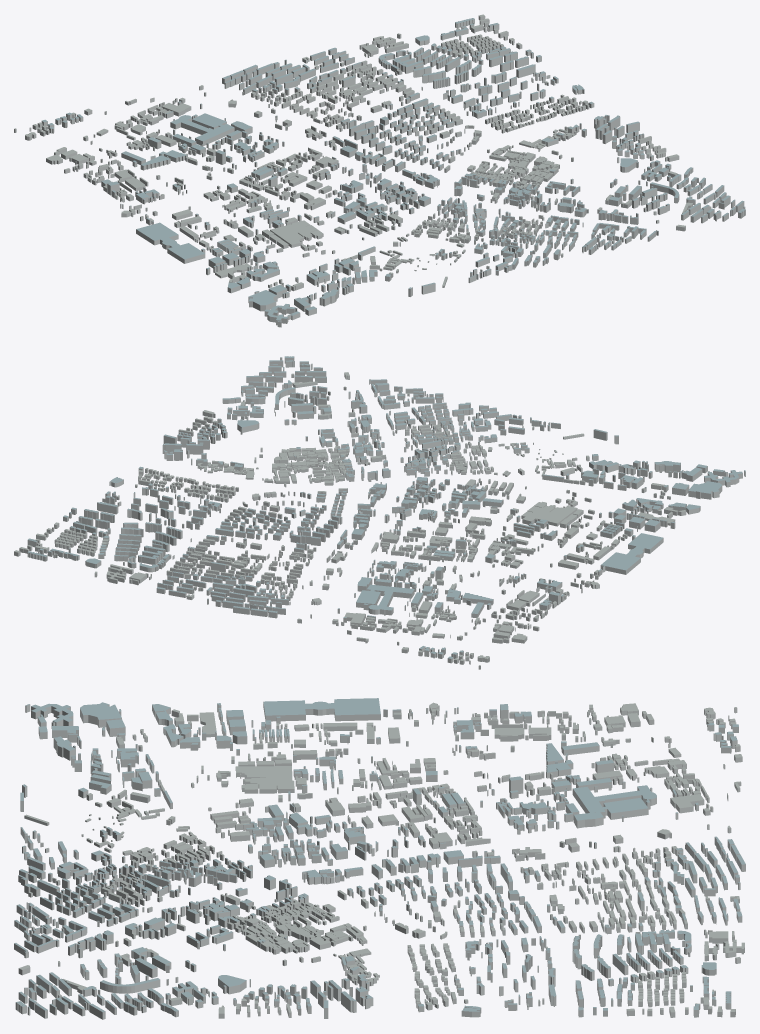
3 renders of one model, top to bottom at view 1: azimuth 30°, elevation 25°; view 2: azimuth 150°, elevation 25°; view 3: azimuth 270°, elevation 25°, orthographic. The views are drawn at different scales.
Parts seen in each view (by area): view 1: 上海全域建筑分块 · mapped building neighborhood; view 2: 上海全域建筑分块 · mapped building neighborhood; view 3: 上海全域建筑分块 · mapped building neighborhood.
Part boxes in pixels (bbox=[...]): 上海全域建筑分块 · mapped building neighborhood: bbox=[14, 14, 745, 327]; 上海全域建筑分块 · mapped building neighborhood: bbox=[14, 356, 745, 669]; 上海全域建筑分块 · mapped building neighborhood: bbox=[14, 698, 745, 1019].
Bounding box in the file's own units: 2168 × 45.54 × 2124.
